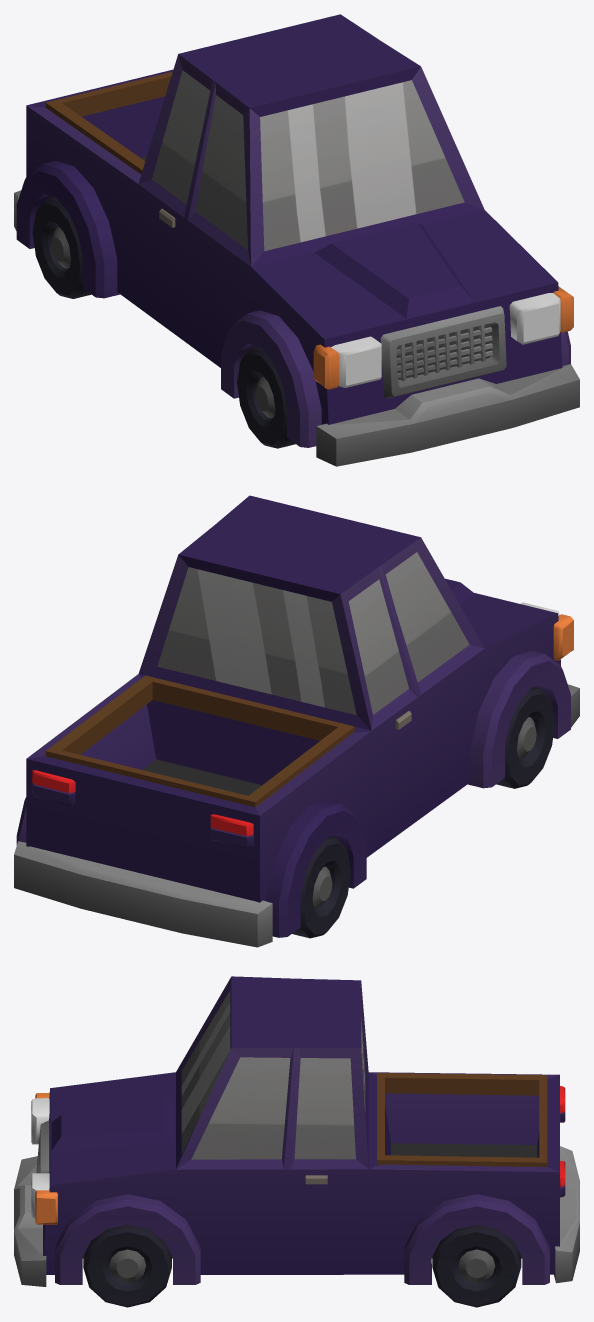
File: PickUp_19.glb
3 views of the same model, one above another, from view 1: azimuth 30°, elevation 25°; view 2: azimuth 150°, elevation 25°; view 3: azimuth 270°, elevation 25° (orthographic). The views are drawn at different scales.
Parts seen in each view (by area): view 1: PickUp_19, BWhel_BR, BWhel_FR; view 2: PickUp_19, BWhel_BR, BWhel_FR; view 3: PickUp_19, BWhel_BL, BWhel_FL.
Part boxes in pixels (x1,y1,x2,y2): PickUp_19: (14,14,579,466); BWhel_BR: (32,197,91,298); BWhel_FR: (237,346,295,448); PickUp_19: (14,495,579,947); BWhel_BR: (292,836,350,938); BWhel_FR: (496,687,554,788); PickUp_19: (14,976,579,1286); BWhel_BL: (432,1225,521,1307); BWhel_FL: (83,1225,171,1307).
Size of the model in its own units: 1.09 by 1.08 by 2.3.
Materials: 6 (6 with a texture image).
